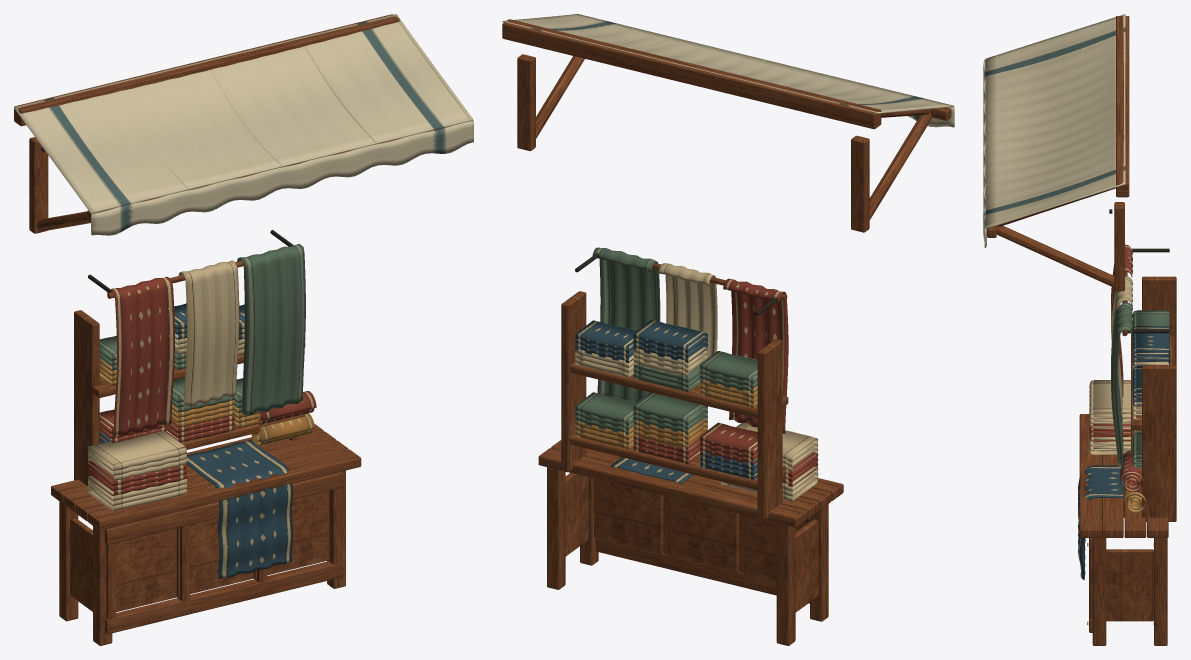
Rendered from textile_booth.glb.
3 renders of one model, left to right at view 1: azimuth 30°, elevation 25°; view 2: azimuth 150°, elevation 25°; view 3: azimuth 270°, elevation 25°, orthographic. The views are drawn at different scales.
Visible parts, largest first — view 1: Textile merchant booth; view 2: Textile merchant booth; view 3: Textile merchant booth.
Part boxes in pixels (x1=…): Textile merchant booth: x1=14, y1=14, x2=473, y2=645; Textile merchant booth: x1=502, y1=14, x2=954, y2=645; Textile merchant booth: x1=983, y1=14, x2=1176, y2=645.
Bounding box in the file's own units: 2.68 × 3.64 × 1.29.
Materials: 1 (1 with a texture image).
